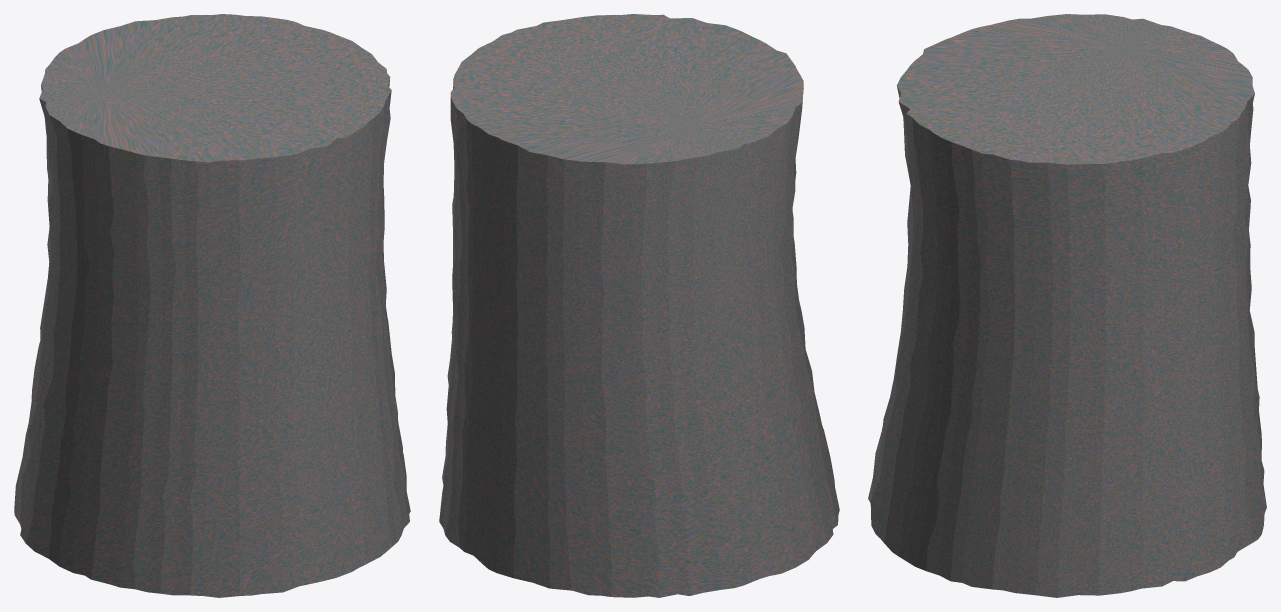
The model's file is barrel_1.dae.
3 renders of one model, left to right at view 1: azimuth 30°, elevation 25°; view 2: azimuth 150°, elevation 25°; view 3: azimuth 270°, elevation 25°, orthographic.
Parts seen in each view (by area): view 1: Cylinder; view 2: Cylinder; view 3: Cylinder.
Part boxes in pixels (x1,y1,x2,y2): Cylinder: (14, 14, 410, 597); Cylinder: (439, 14, 839, 597); Cylinder: (868, 14, 1266, 597).
Size of the model in its own units: 0.86 by 0.848 by 1.
1 material, 1 textured.
